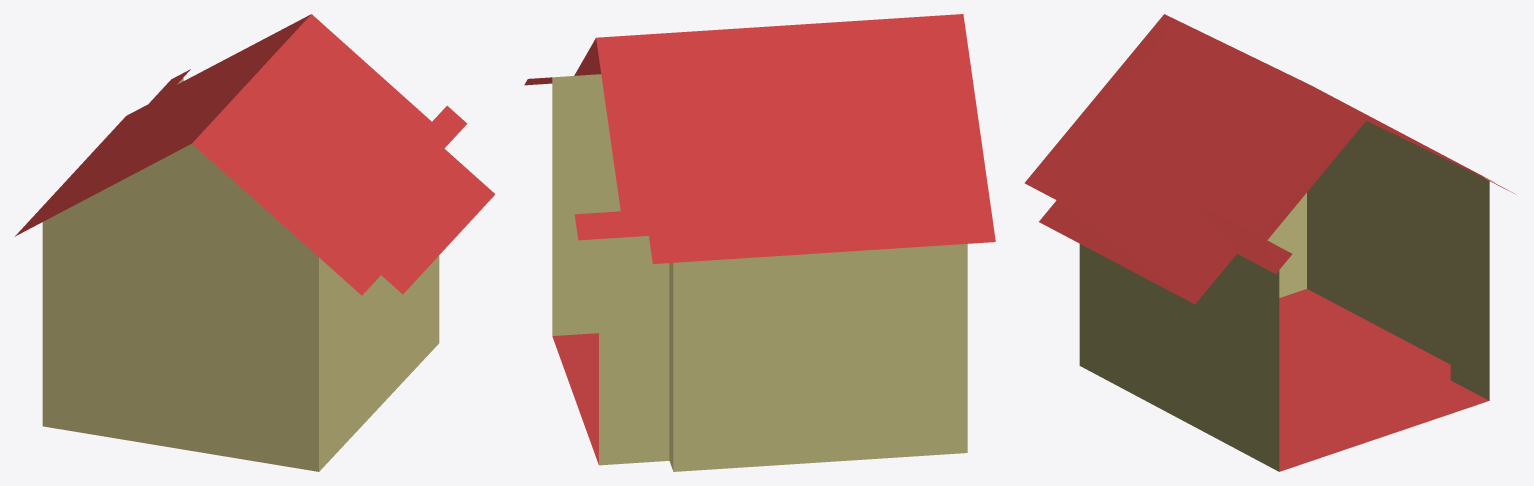
3 views of the same model, side by side, from view 1: azimuth 30°, elevation 25°; view 2: azimuth 150°, elevation 25°; view 3: azimuth 270°, elevation 25° (orthographic). The views are drawn at different scales.
Bounding box in the file's own units: 17.28 × 17.33 × 12.03.
